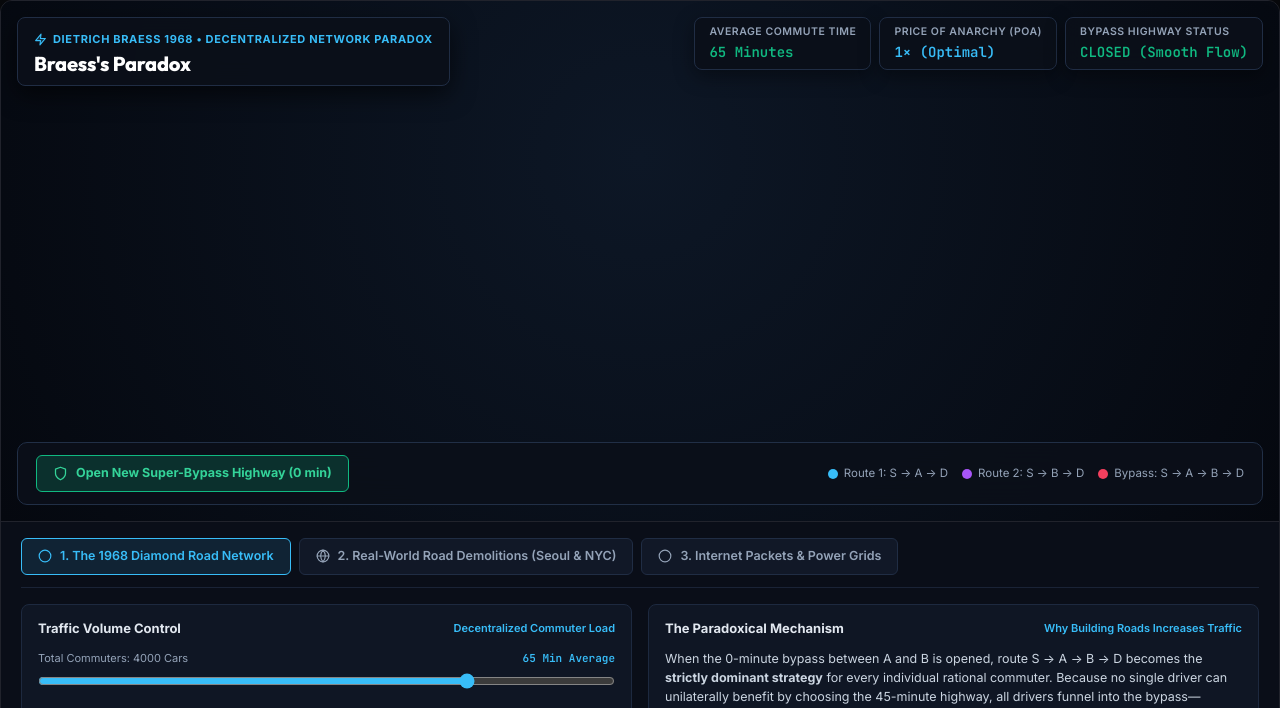
Scenario: BraessParadox3DLab › toggles the super-bypass highway and reveals the congestion paradox
Expected: the text "65 Minutes" is shown, [709, 43, 793, 61]
Expected: the text "CLOSED (Smooth Flow)" is shown, [1080, 42, 1248, 63]
# Click to Open the Bypass Highway
What coordinates should you click on to do the following:
click the button with aria-label "Open Bypass Highway"
I would click on:
 (192, 474)
Its box is [36, 455, 349, 492].
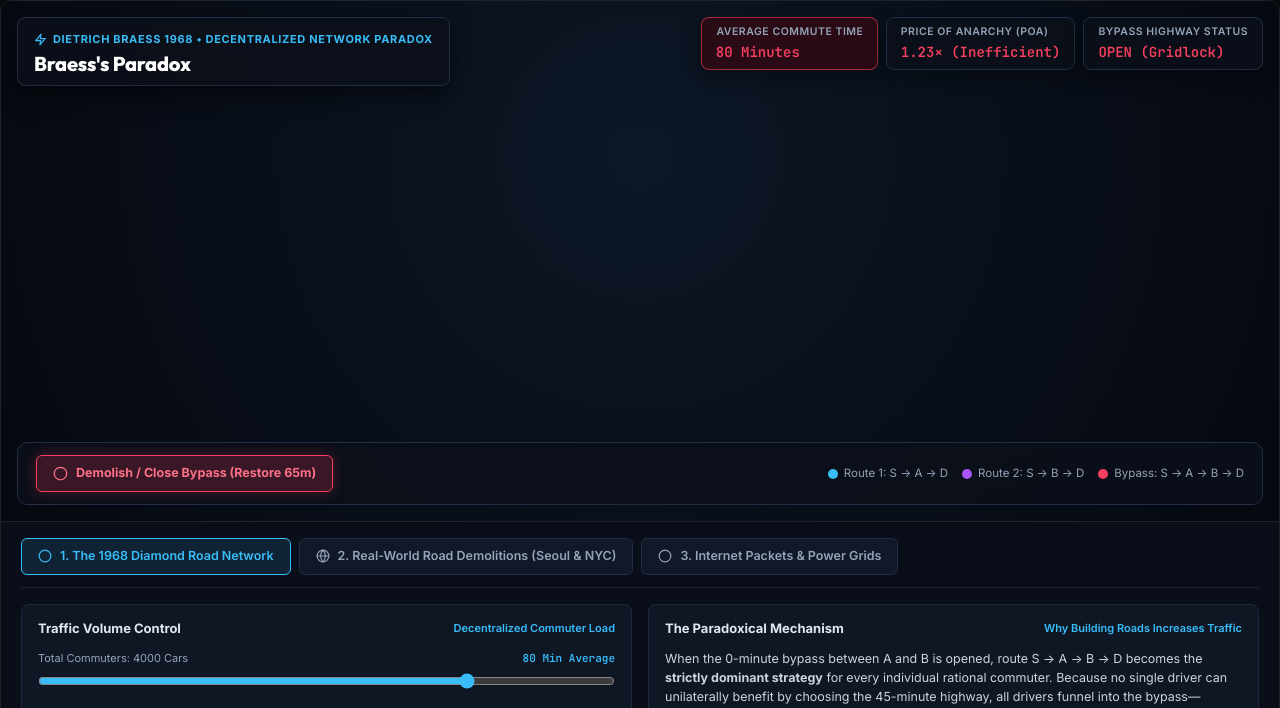
Expected: the text "80 Minutes" is shown, [716, 43, 800, 61]
Expected: the text "OPEN (Gridlock)" is shown, [1098, 43, 1224, 61]
Expected: the text "1.23× (Inefficient)" is shown, [901, 42, 1060, 63]
# Click to Close / Demolish the Bypass
What coordinates should you click on to do the following:
click the button with aria-label "Close Bypass Highway"
I would click on:
 (185, 474)
Its box is [36, 455, 333, 492].
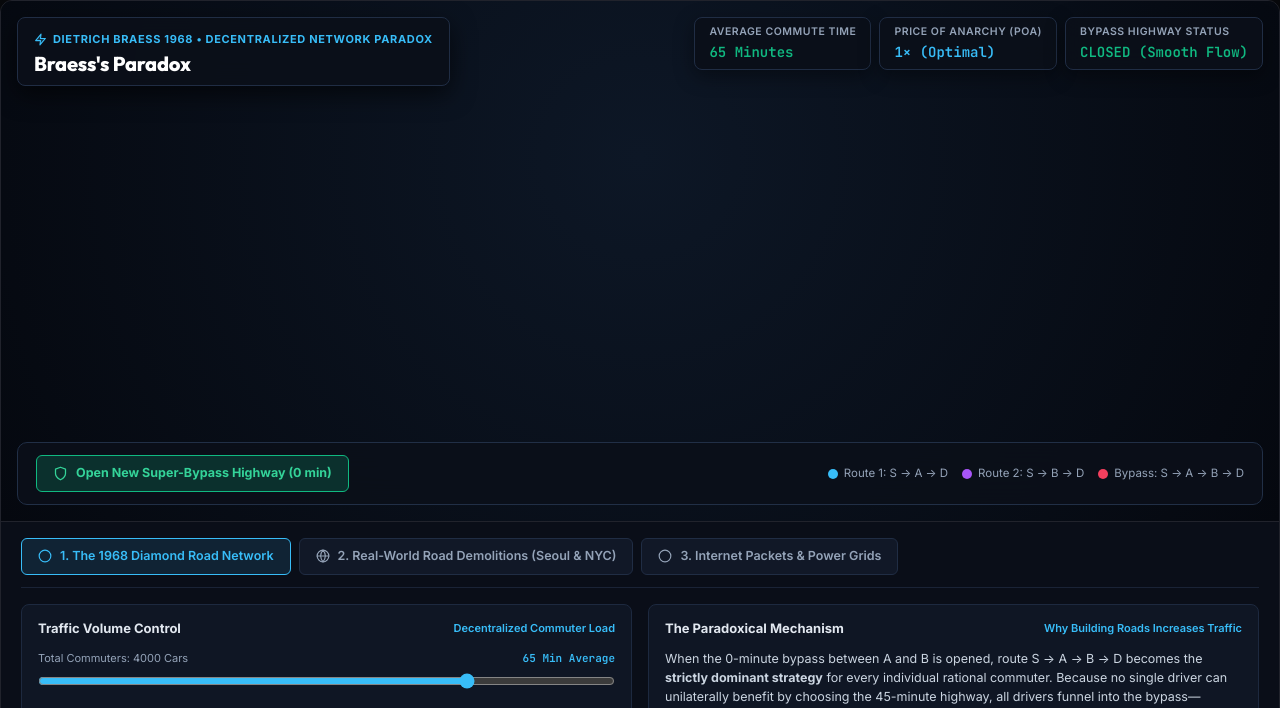
Expected: the text "65 Minutes" is shown, [709, 43, 793, 61]
Expected: the text "CLOSED (Smooth Flow)" is shown, [1080, 42, 1248, 63]
